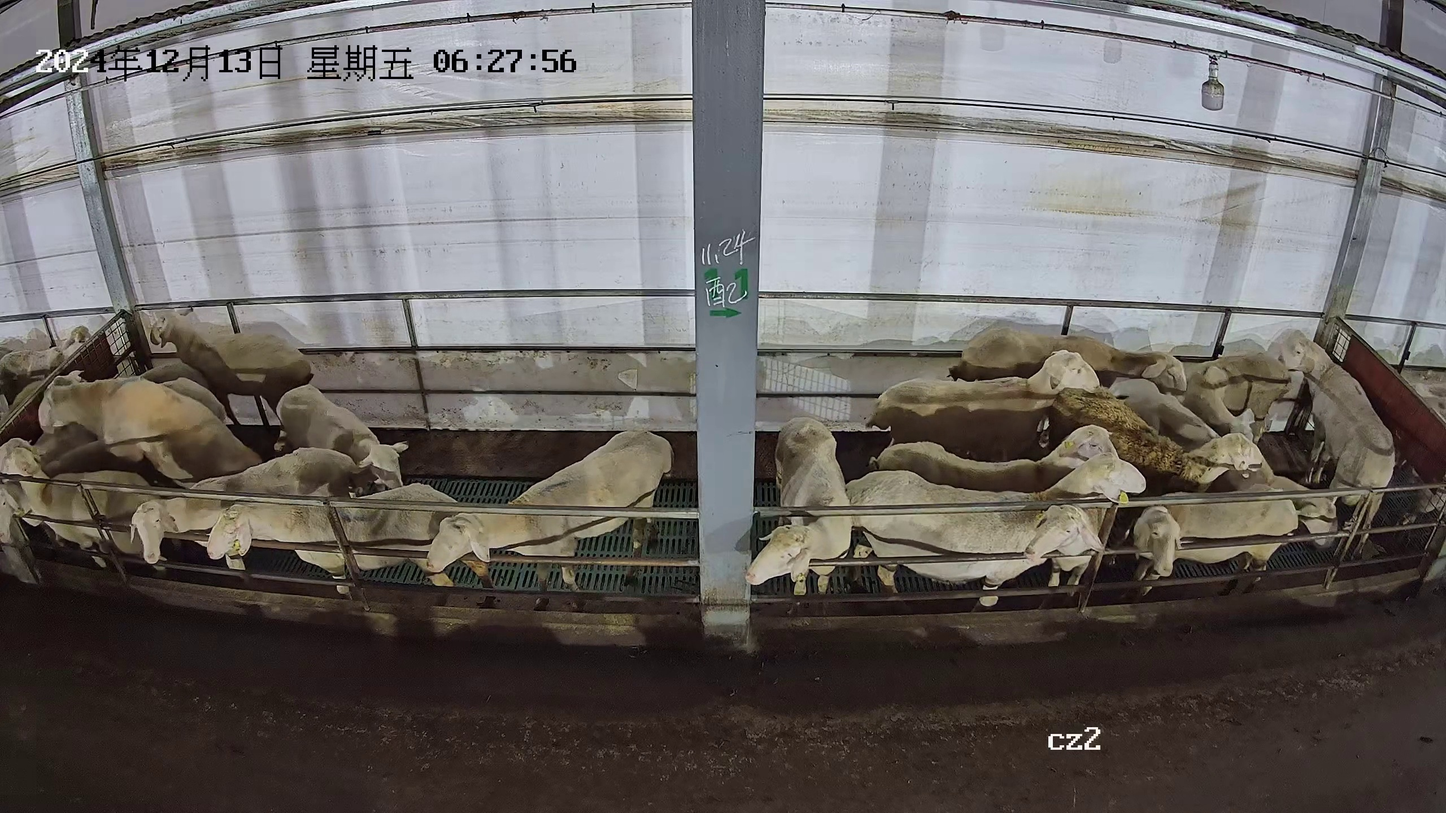Smounting: (1, 373, 266, 486)
mounted: (1, 431, 154, 484)
